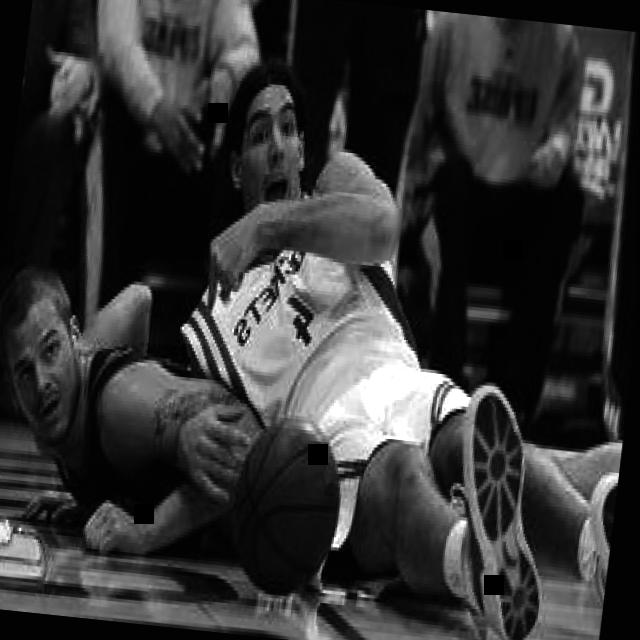Fall-Detected: (17, 0, 624, 640)
